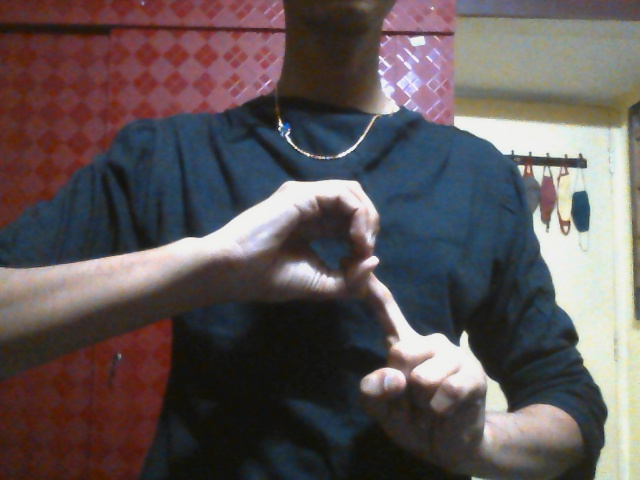Q: (221, 178, 488, 458)
